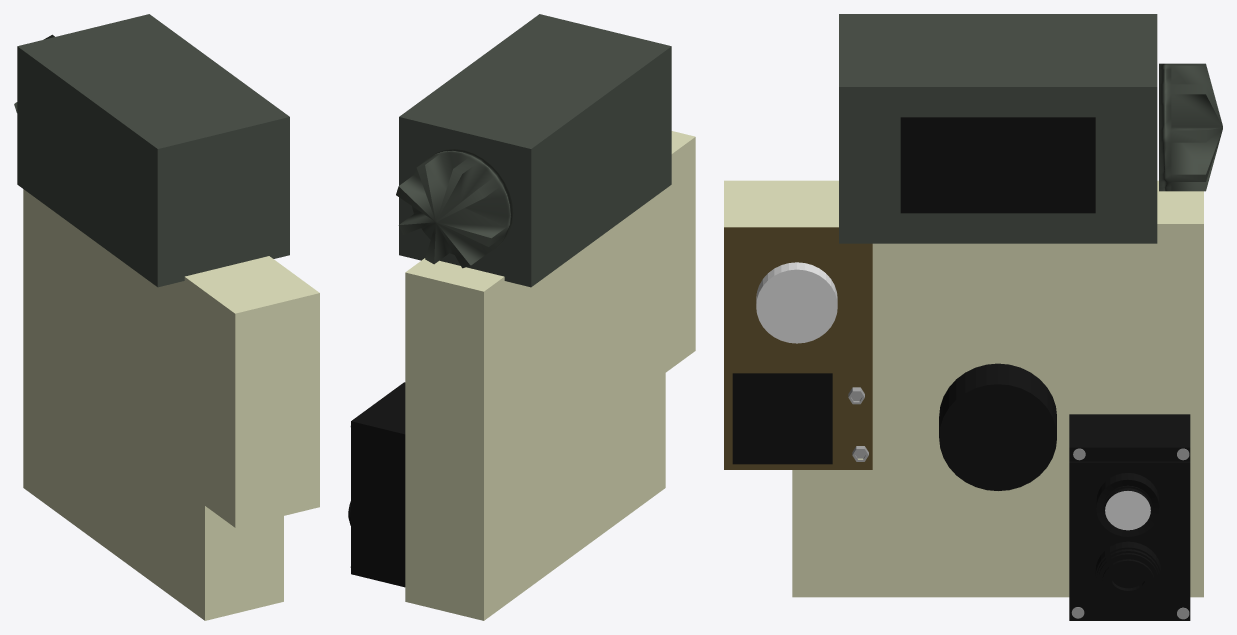
Rendered from счётчик.fbx.
3 renders of one model, left to right at view 1: azimuth 30°, elevation 25°; view 2: azimuth 150°, elevation 25°; view 3: azimuth 270°, elevation 25°, orthographic. The views are drawn at different scales.
Parts seen in each view (by area): view 1: Куб, Cube.001; view 2: Куб, Cube.001, Cube, Cylinder.007; view 3: Куб, Cube.001, Cube, Cylinder, Cylinder.007, Cylinder.005.
Part boxes in pixels (box(x1,y1,x2,y2)): Куб: box(23, 189, 319, 620); Cube.001: box(17, 14, 289, 287); Куб: box(405, 131, 695, 620); Cube.001: box(399, 14, 671, 287); Cube: box(348, 382, 405, 587); Cylinder.007: box(396, 149, 513, 268); Куб: box(724, 180, 1203, 597); Cube.001: box(839, 14, 1157, 243); Cube: box(1069, 414, 1190, 620); Cylinder: box(939, 363, 1056, 490); Cylinder.007: box(1159, 63, 1222, 191); Cylinder.005: box(756, 262, 837, 343).
Bounding box in the file's own units: 58.57 × 142 × 121.
